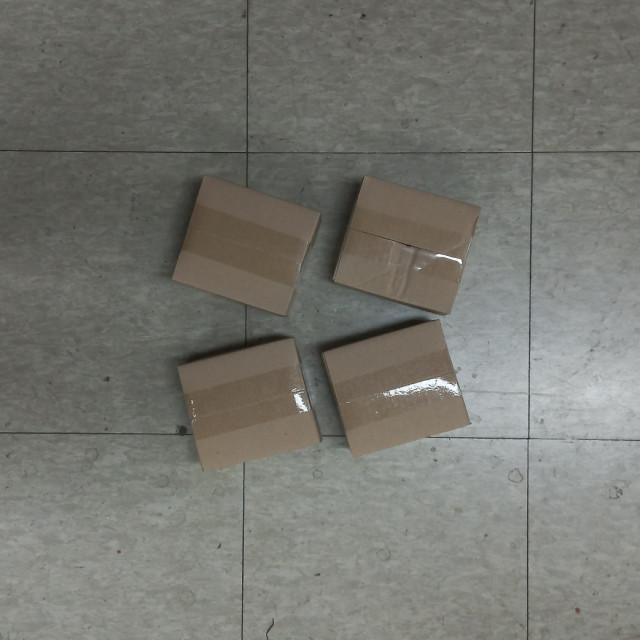box: (314, 311, 478, 465), (164, 327, 327, 481), (167, 166, 325, 321), (326, 167, 487, 316)
